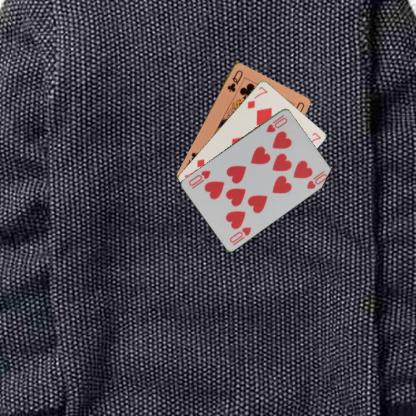10h: (263, 112, 289, 134), (227, 224, 253, 244)
7d: (244, 83, 269, 110)
Qc: (224, 67, 244, 93)
